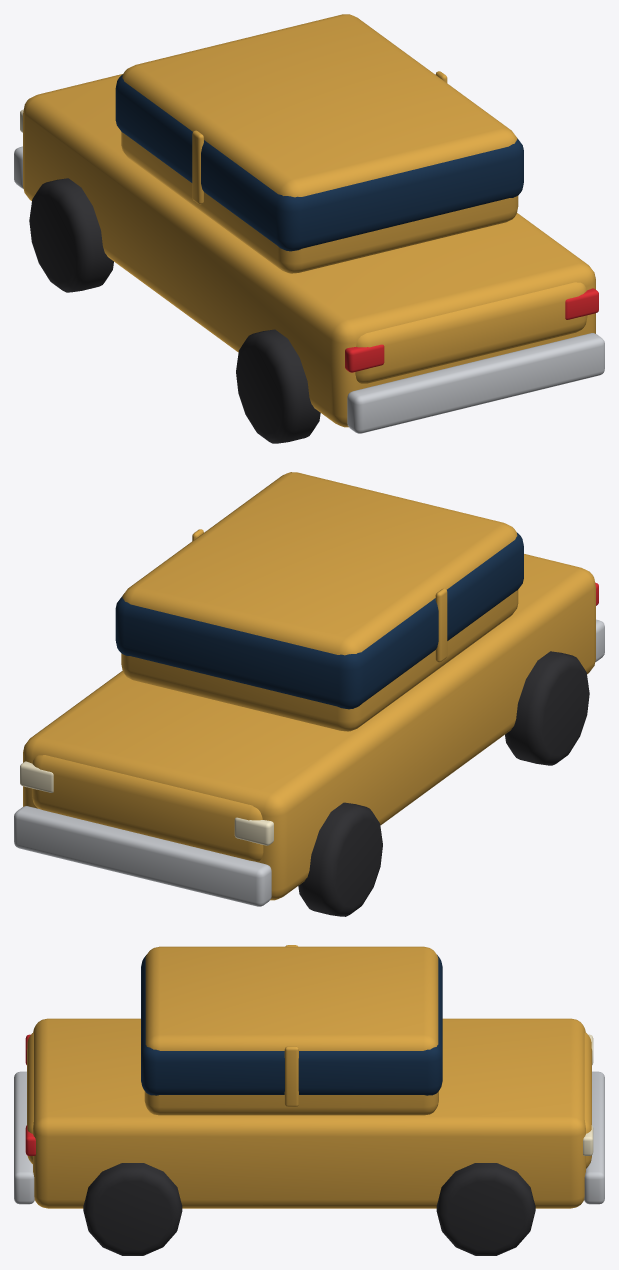
Rendered from sedan-mustard.glb.
The picture shows the model from 3 angles, top to bottom: view 1: azimuth 30°, elevation 25°; view 2: azimuth 150°, elevation 25°; view 3: azimuth 270°, elevation 25°; orthographic projection. The views are drawn at different scales.
Parts seen in each view (by area): view 1: Sedan_Body, Sedan_Cabin, Sedan_GlassBand, Sedan_BumpR, Sedan_Trunk, Wheel_2V_Sedan, Wheel_0V_Sedan, Sedan_Tail_0, Sedan_Tail_1, Sedan_Bpil_-1; view 2: Sedan_Body, Sedan_Cabin, Sedan_GlassBand, Sedan_Hood, Sedan_BumpF, Wheel_0V_Sedan, Wheel_2V_Sedan, Sedan_Light_0, Sedan_Bpil_-1, Sedan_Light_1; view 3: Sedan_Body, Sedan_Cabin, Sedan_GlassBand, Wheel_1V_Sedan, Wheel_3V_Sedan, Sedan_BumpR, Sedan_BumpF, Sedan_Bpil_+1, Sedan_Hood, Sedan_Trunk.
Part boxes in pixels (x1,y1,x2,y2): Sedan_Body: (23, 74, 595, 427); Sedan_Cabin: (121, 14, 518, 273); Sedan_GlassBand: (115, 74, 523, 251); Sedan_BumpR: (347, 333, 604, 433); Sedan_Trunk: (355, 282, 587, 383); Wheel_2V_Sedan: (236, 329, 320, 443); Wheel_0V_Sedan: (29, 178, 113, 292); Sedan_Tail_0: (345, 344, 384, 372); Sedan_Tail_1: (565, 288, 598, 319); Sedan_Bpil_-1: (192, 130, 203, 204); Sedan_Body: (23, 554, 595, 900); Sedan_Cabin: (121, 472, 518, 731); Sedan_GlassBand: (115, 532, 523, 709); Sedan_Hood: (32, 755, 263, 861); Sedan_BumpF: (14, 806, 271, 906); Wheel_0V_Sedan: (298, 802, 382, 916); Wheel_2V_Sedan: (505, 651, 589, 765); Sedan_Light_0: (234, 817, 273, 845); Sedan_Bpil_-1: (435, 588, 447, 662); Sedan_Light_1: (20, 761, 53, 792); Sedan_Body: (33, 1018, 585, 1208); Sedan_Cabin: (144, 946, 438, 1115); Sedan_GlassBand: (141, 955, 442, 1095); Wheel_1V_Sedan: (436, 1163, 535, 1255); Wheel_3V_Sedan: (83, 1163, 182, 1255); Sedan_BumpR: (14, 1071, 34, 1204); Sedan_BumpF: (584, 1071, 604, 1204); Sedan_Bpil_+1: (284, 1046, 298, 1106); Sedan_Hood: (584, 1032, 591, 1168); Sedan_Trunk: (27, 1032, 33, 1163).
Size of the model in its own units: 2.56 by 1.91 by 5.02.
